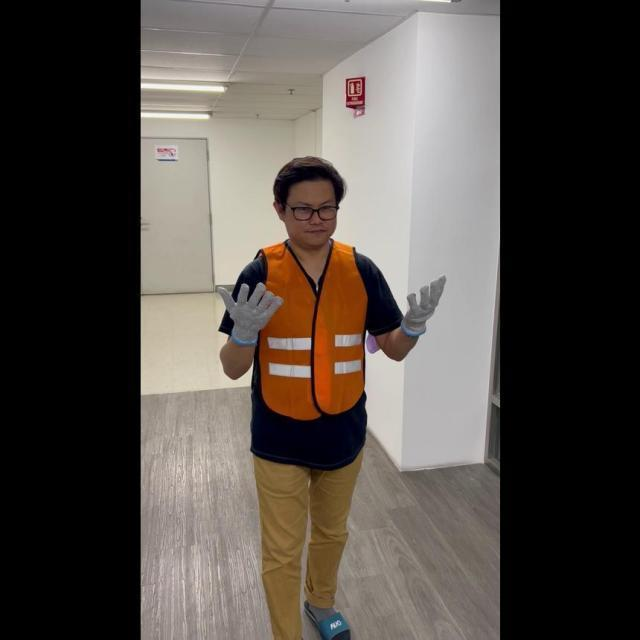gloved_hand: (216, 275, 281, 345), (398, 267, 446, 334)
